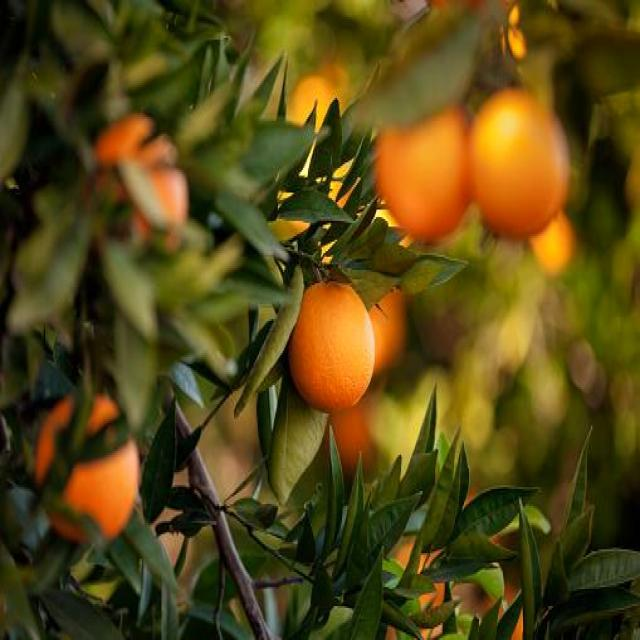Jeruk Sudah Matang: (38, 390, 138, 548), (374, 86, 472, 242), (86, 113, 192, 257), (472, 83, 568, 236), (290, 277, 374, 413)
